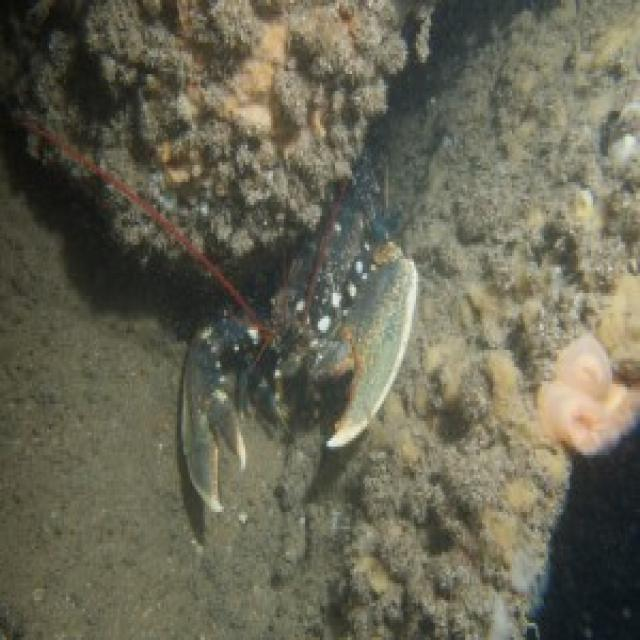lobsters: (116, 113, 512, 514)
